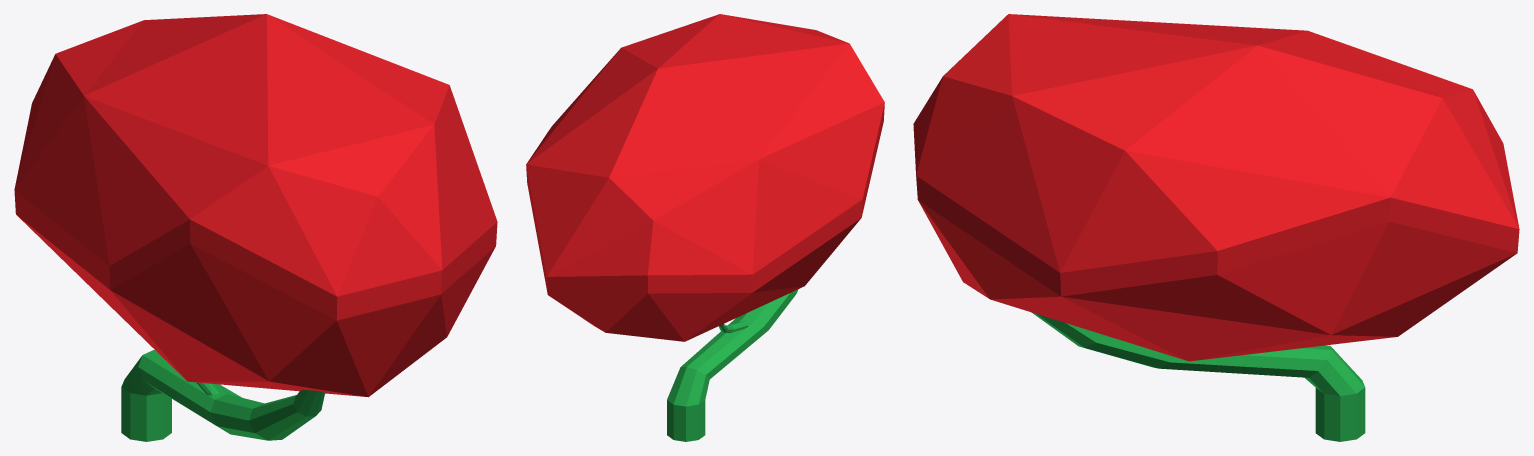
File: Bush1.obj
The picture shows the model from 3 angles, left to right: view 1: azimuth 30°, elevation 25°; view 2: azimuth 150°, elevation 25°; view 3: azimuth 270°, elevation 25°; orthographic projection. The views are drawn at different scales.
Parts seen in each view (by area): view 1: Cylinder.014; view 2: Cylinder.014; view 3: Cylinder.014.
Part boxes in pixels (x1,y1,x2,y2): Cylinder.014: (14, 14, 497, 441); Cylinder.014: (526, 14, 884, 441); Cylinder.014: (913, 14, 1519, 441).
Bounding box in the file's own units: 2.1 × 2.31 × 2.99.
